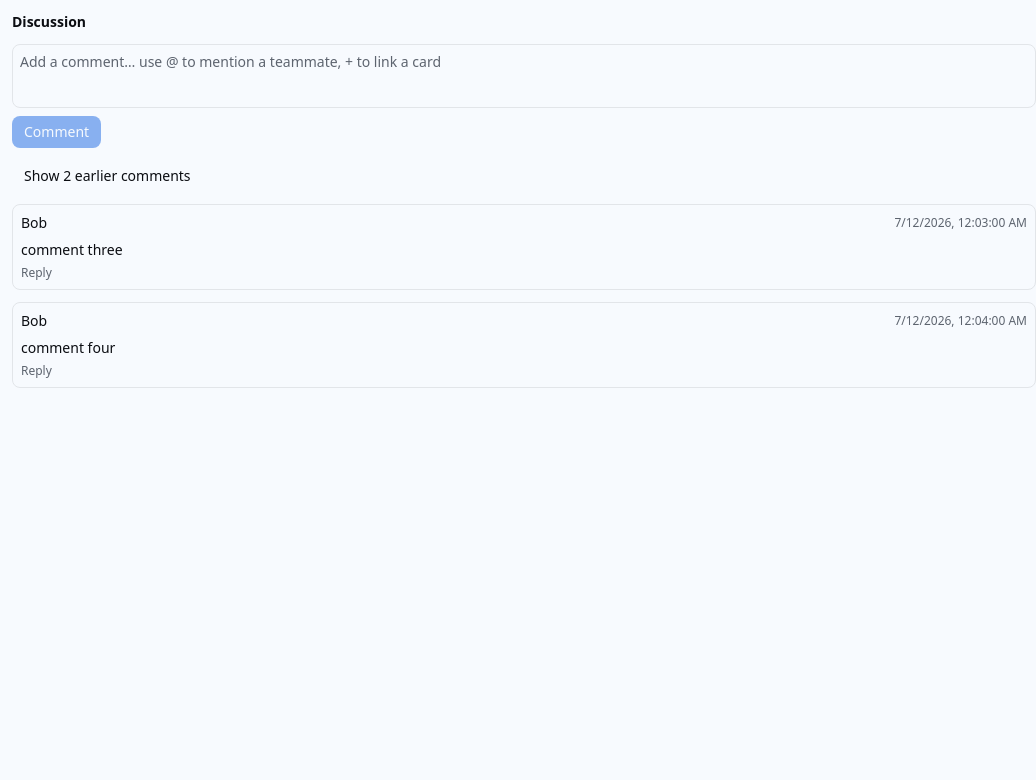
Test case: CommentThread › previews only the most recent comments and expands the earlier ones on request
Expected: the text "comment three" is shown, [21, 240, 123, 259]
Expected: the text "comment four" is shown, [21, 338, 115, 357]
Click the button "Show 2 earlier comments".
click(107, 176)  # box [12, 160, 203, 192]
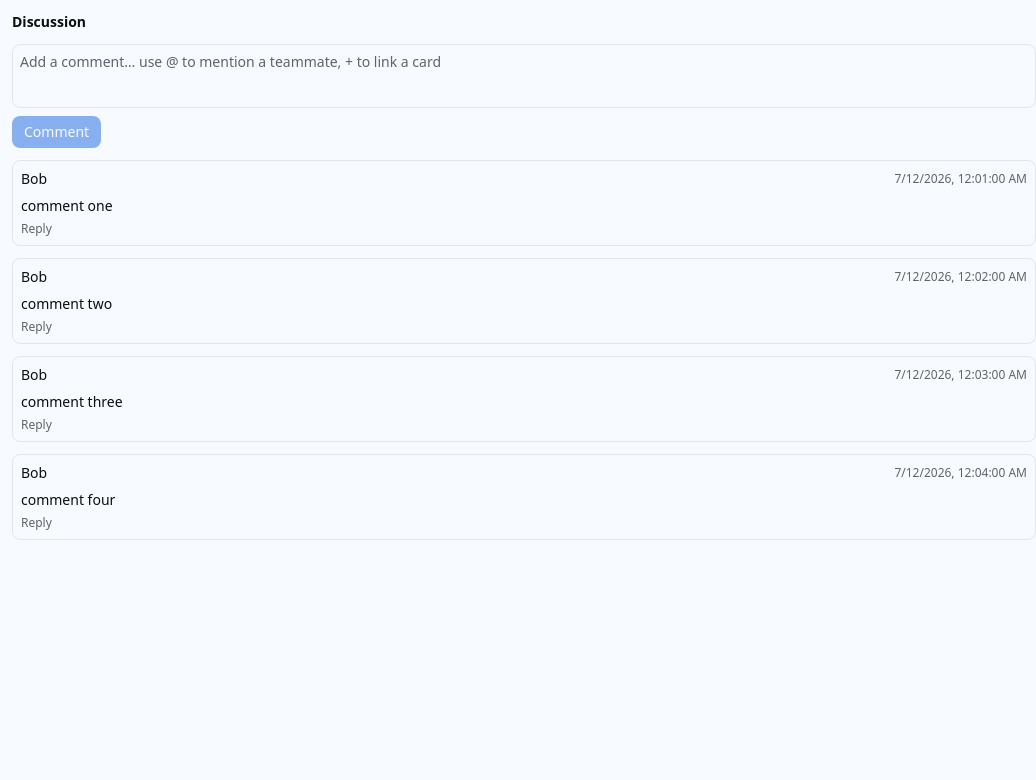
Now the text "comment one" is shown, box [21, 196, 113, 215]
Now the text "comment two" is shown, box [21, 294, 112, 313]
